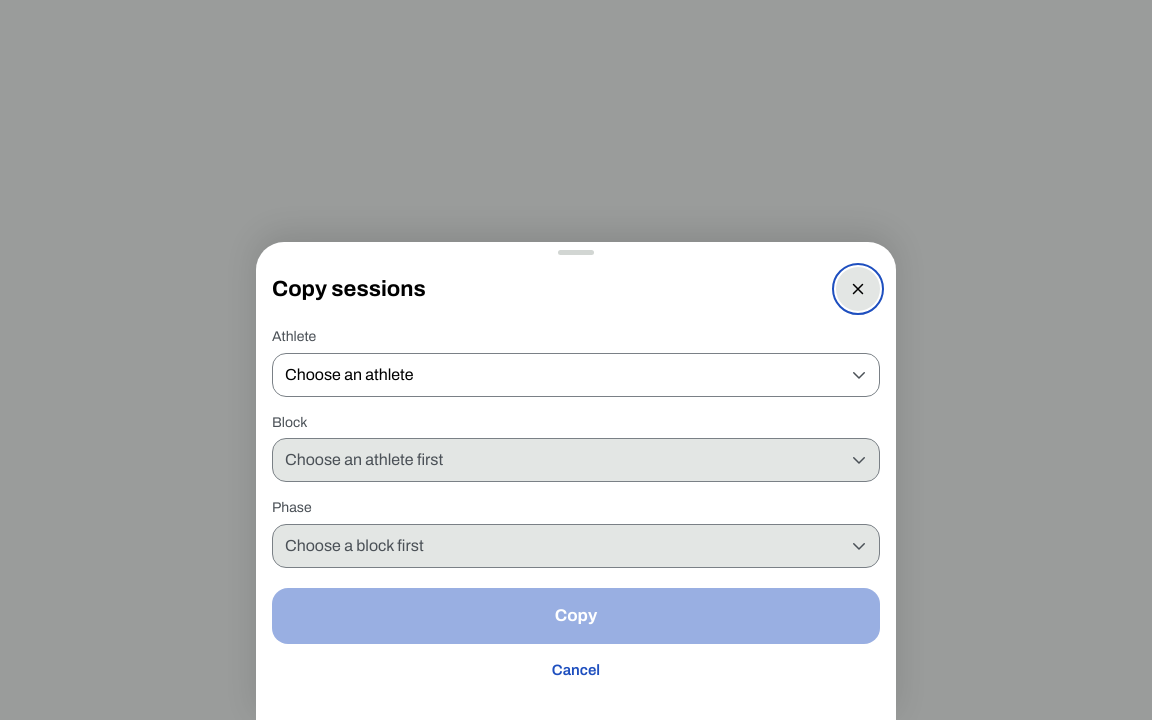
Test: CopyDialog › forgets the block and the phase when another athlete is picked
Step 1. Select "Bob" in the dropdown labelled "Athlete" → (576,375), box [272,353,880,397]
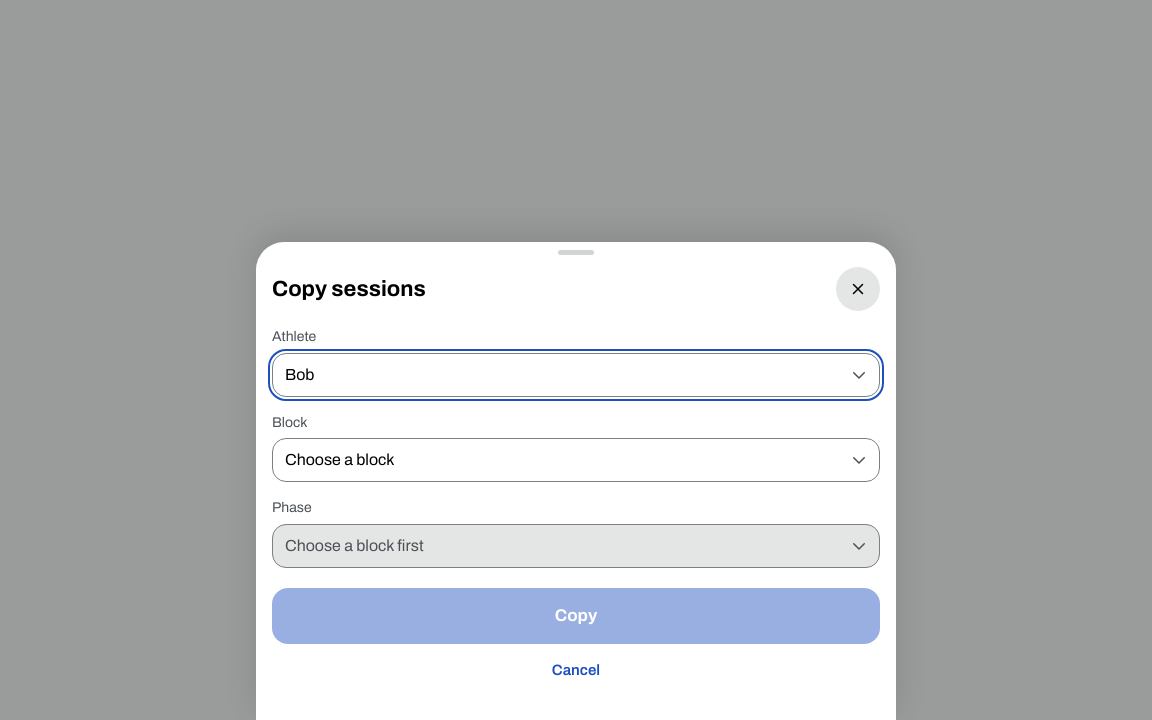
Step 2. Select "Base, in progress" in the dropdown labelled "Block" → (576,460), box [272,438,880,482]
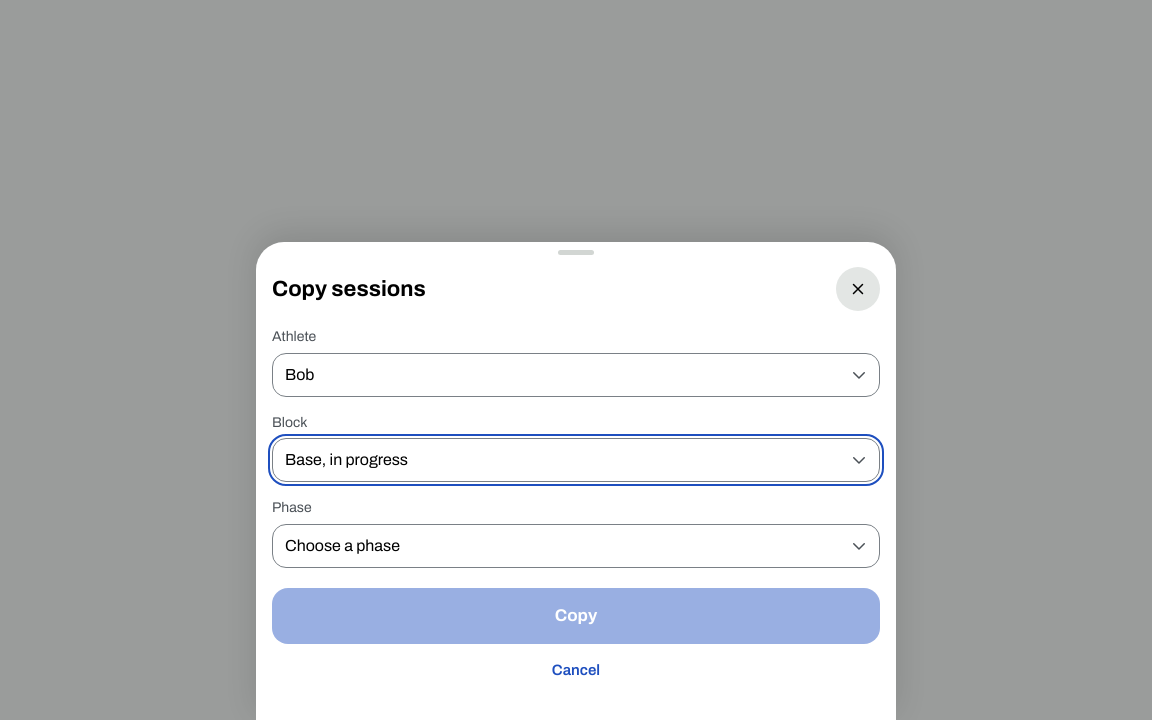
Step 3. Select "Unnamed phase, Session 3" in the dropdown labelled "Phase" → (576,546), box [272,524,880,568]
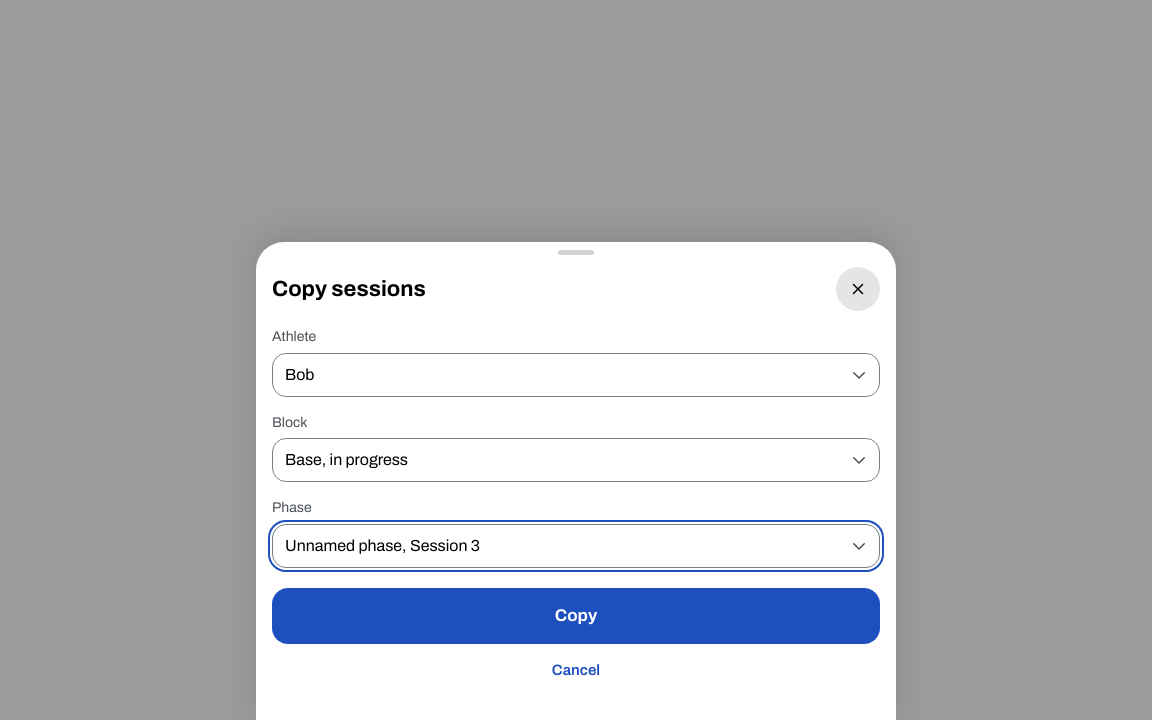
Step 4. Select "Alice, this athlete" in the dropdown labelled "Athlete" → (576,375), box [272,353,880,397]
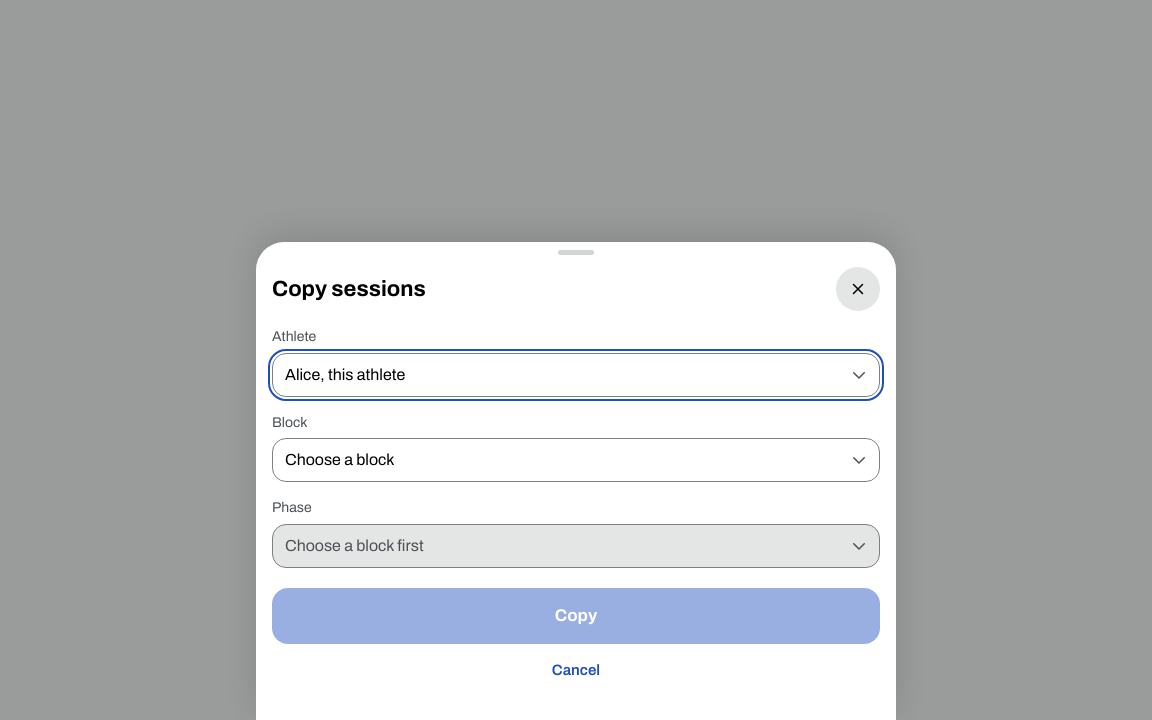
Check: the button "Copy" is disabled, box [272,588,880,644]
